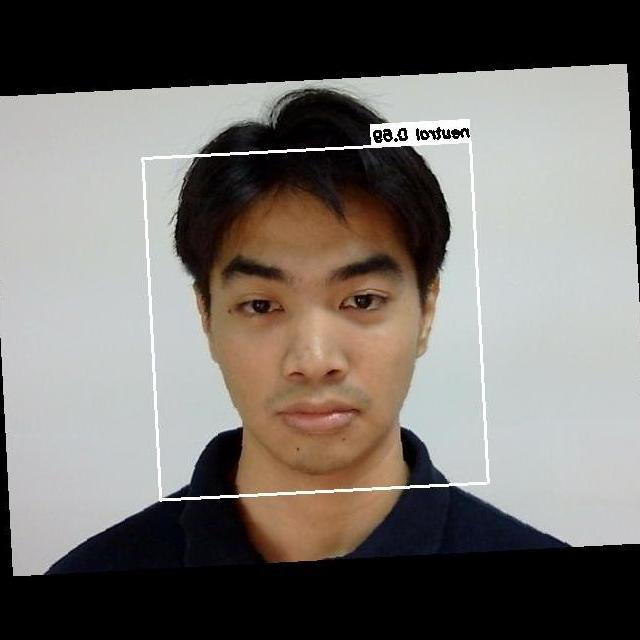Fear: (195, 221, 443, 451)
